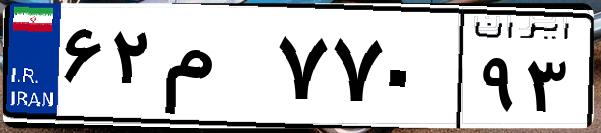0: (385, 28, 445, 110)
2: (110, 28, 158, 98)
3: (525, 38, 570, 115)
6: (57, 26, 110, 100)
7: (270, 28, 330, 110), (330, 28, 385, 110)
9: (475, 38, 525, 113)
م: (158, 20, 270, 120)
